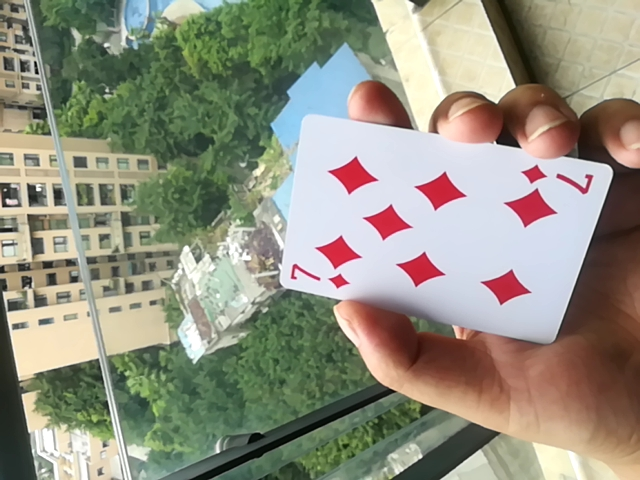fk 7: (272, 108, 620, 348)
